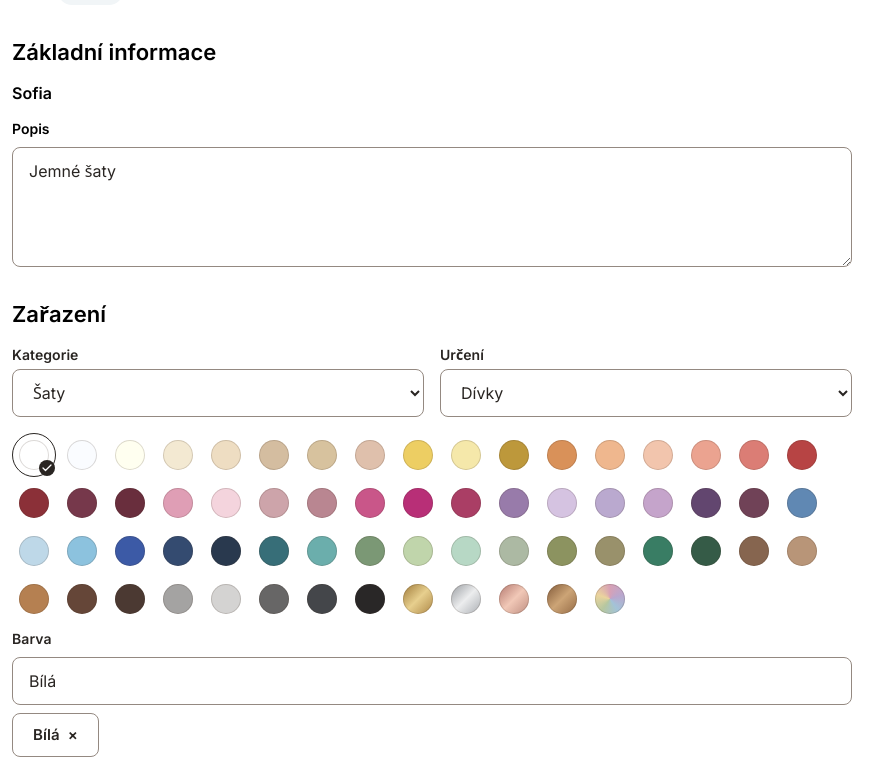
Scenario: PATCH 404 preserves edits and shows product-not-found save copy without replacing page
The image size is (869, 761).
Step 1. Replace the text in the field labelled "Barva" with "Růžová" → [432, 681], box [29,669,835,693]
(page scrolled)
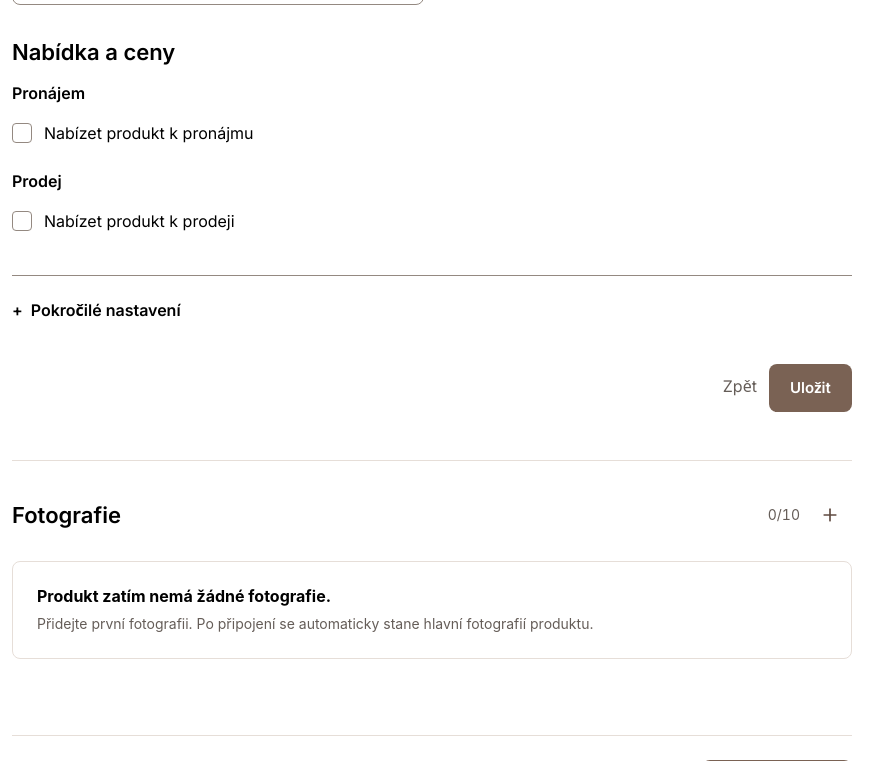
Step 2. Click the button "Uložit" → [810, 388], box [769,364,852,412]
(page scrolled)
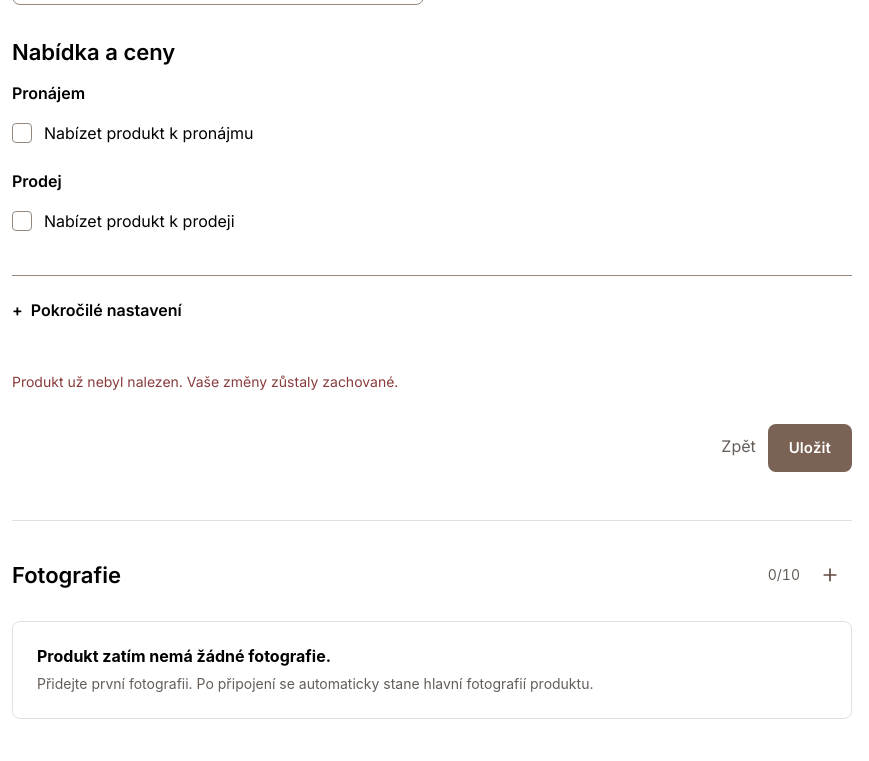
Result: the button "Uložit" is enabled at [768,424,852,472]
Result: the text "Produkt už nebyl nalezen. Vaše změny zůstaly zachované." is shown at [12,373,398,390]
